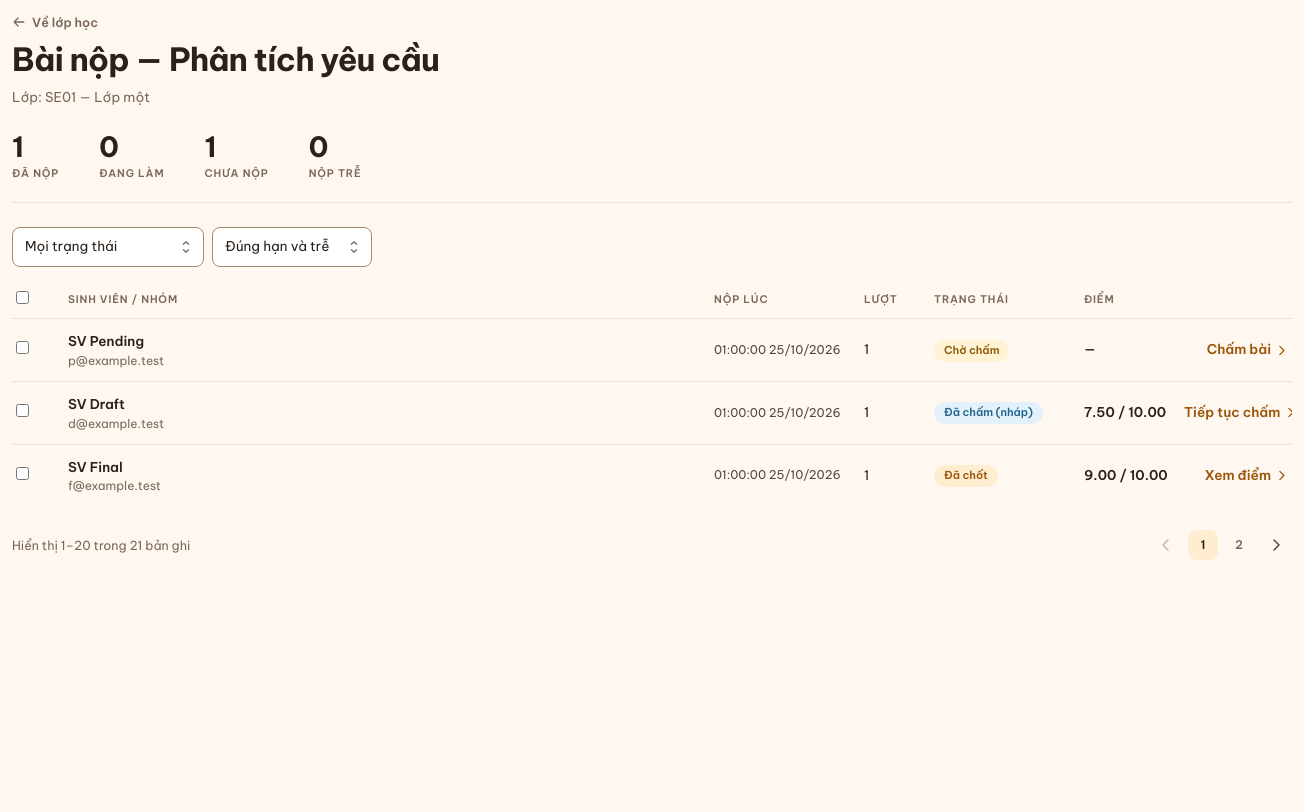
Test: submission filters and batch behavior › renders state-specific action links, single-line tabular scores, and clear-selection control
The width and height of the screenshot is (1304, 812).
Expected: the text "7.50 / 10.00" is shown, 1072,382 -> 1172,444
Click the checkbox named "Chọn SV Pending" at (22, 348), box 16,341 -> 29,354
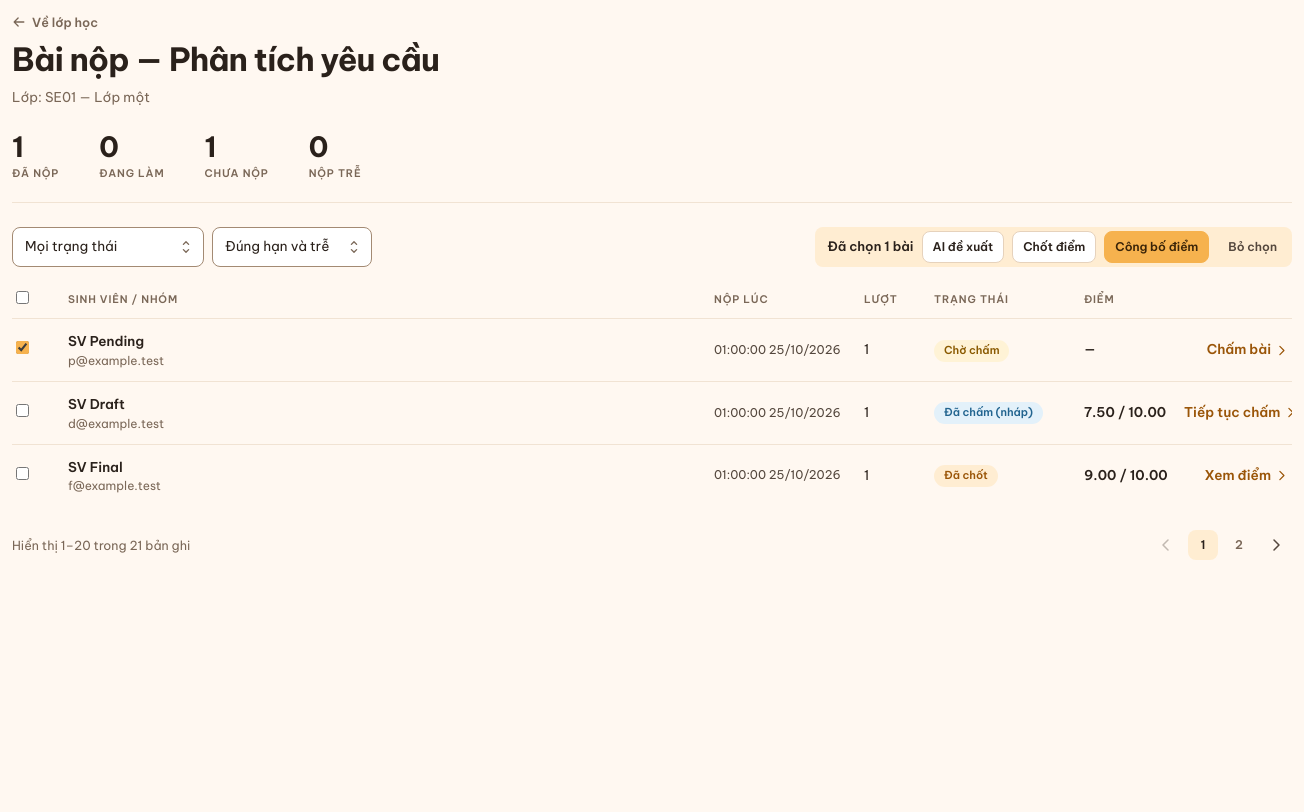
Expected: the text "Đã chọn 1 bài" is shown, 827,236 -> 914,257
Click the button "Bỏ chọn" at (1253, 247), box 1217,231 -> 1288,263
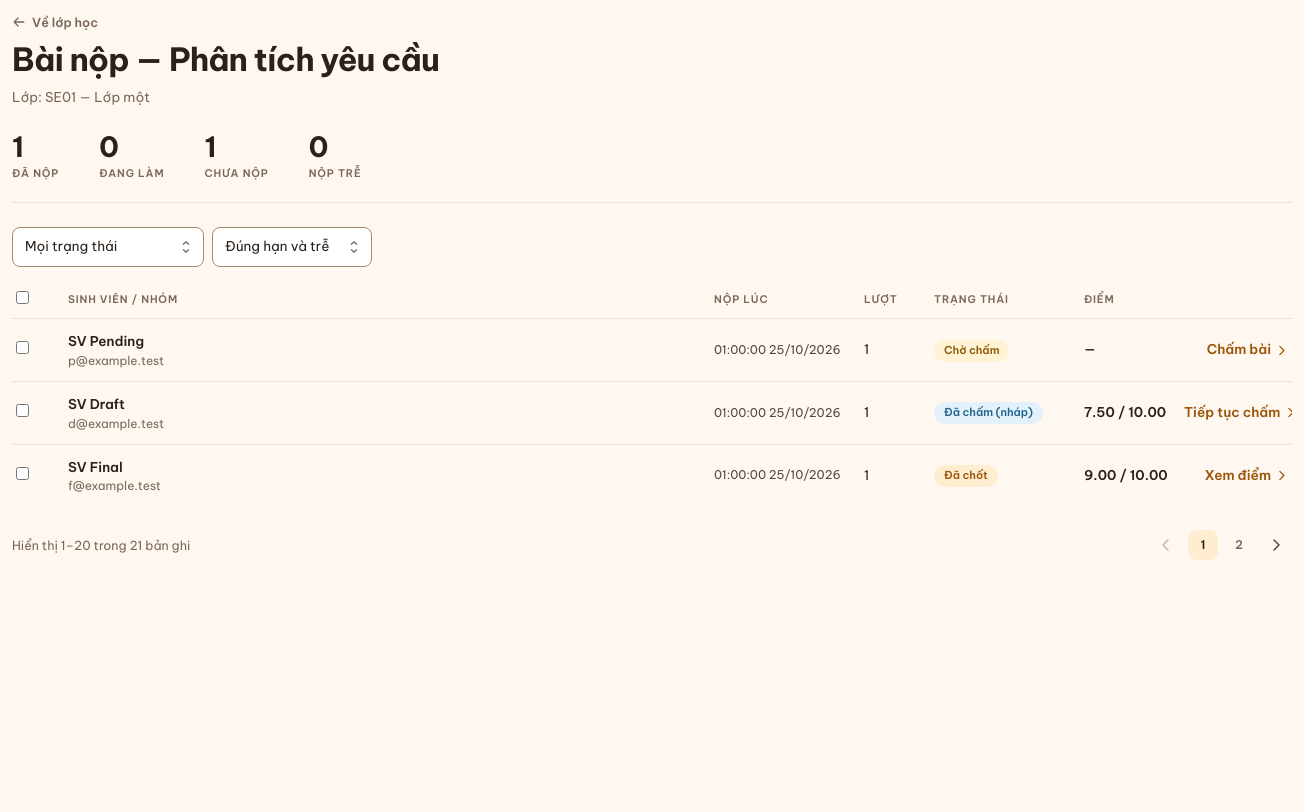
Expected: the button "Chốt điểm" is gone
